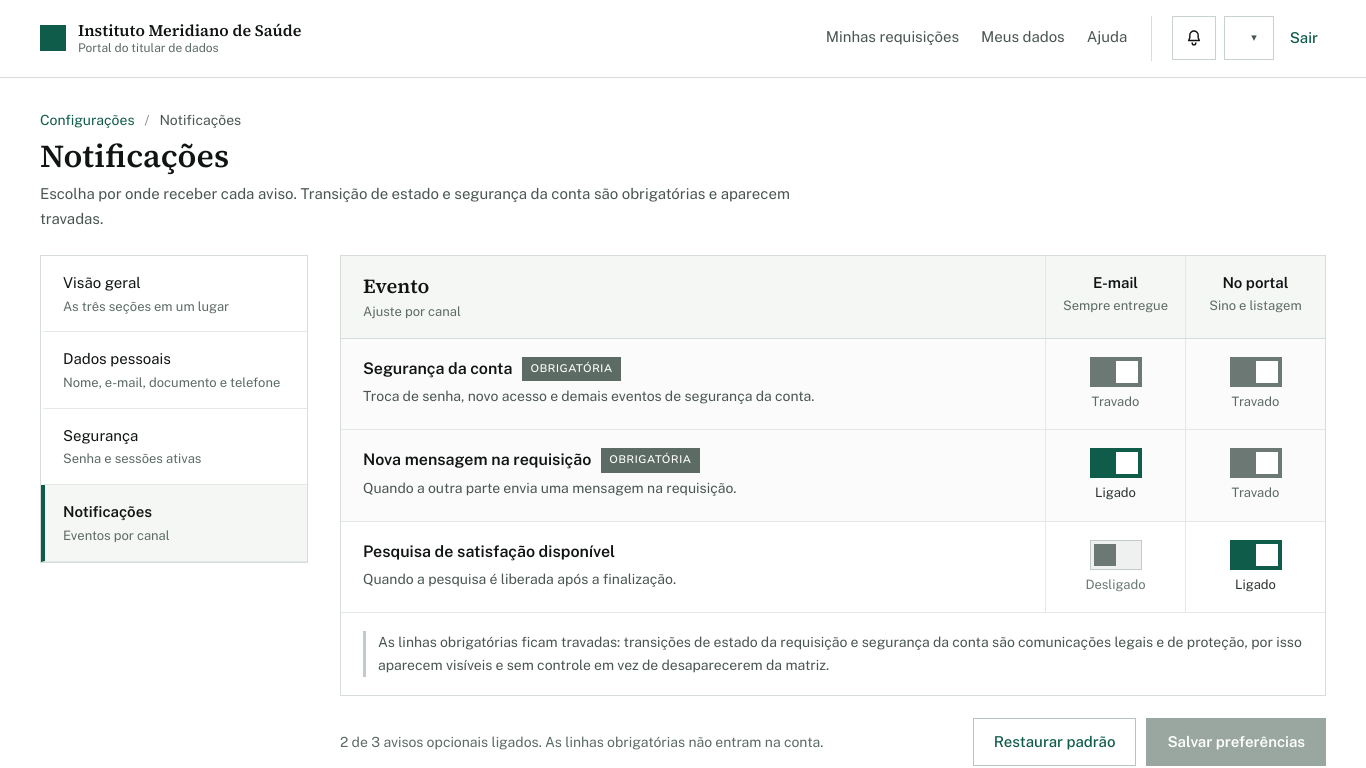
Test: NotificationSettingsView › restaurar o padrão liga tudo, mas só vale ao salvar
Click the button "Restaurar padrão" at [1055, 742], box [973,718,1136,766]
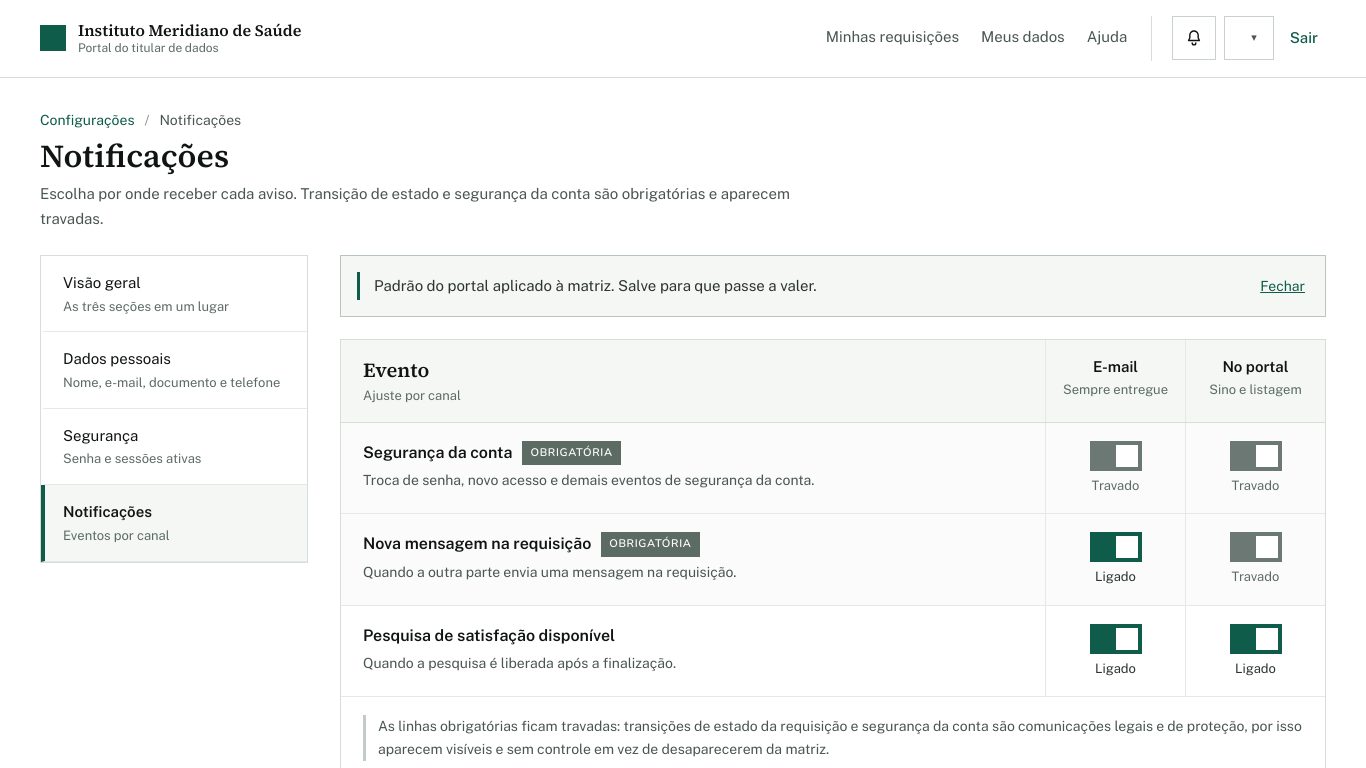
Check: the text "Salve para que passe a valer." is shown, box [374,277,817,294]
